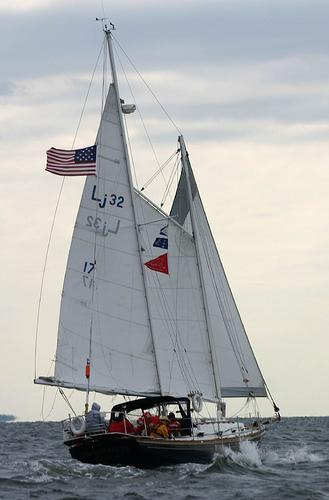Ship: (36, 23, 280, 465)
